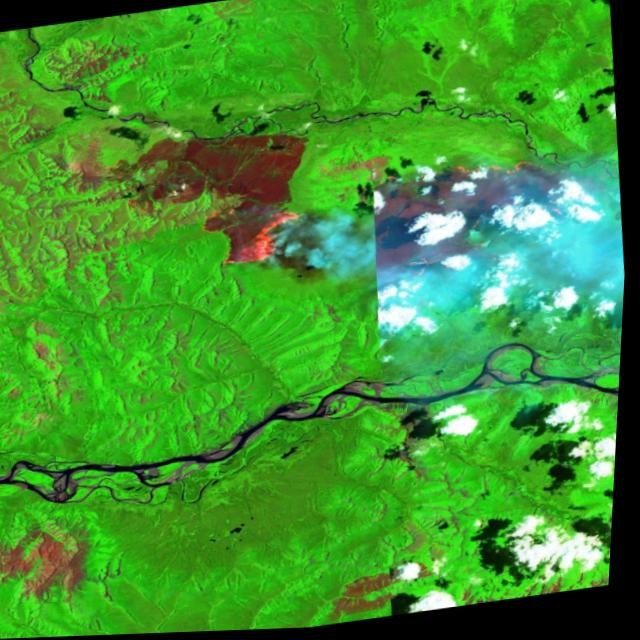fire: (186, 182, 313, 279), (407, 151, 554, 202)
